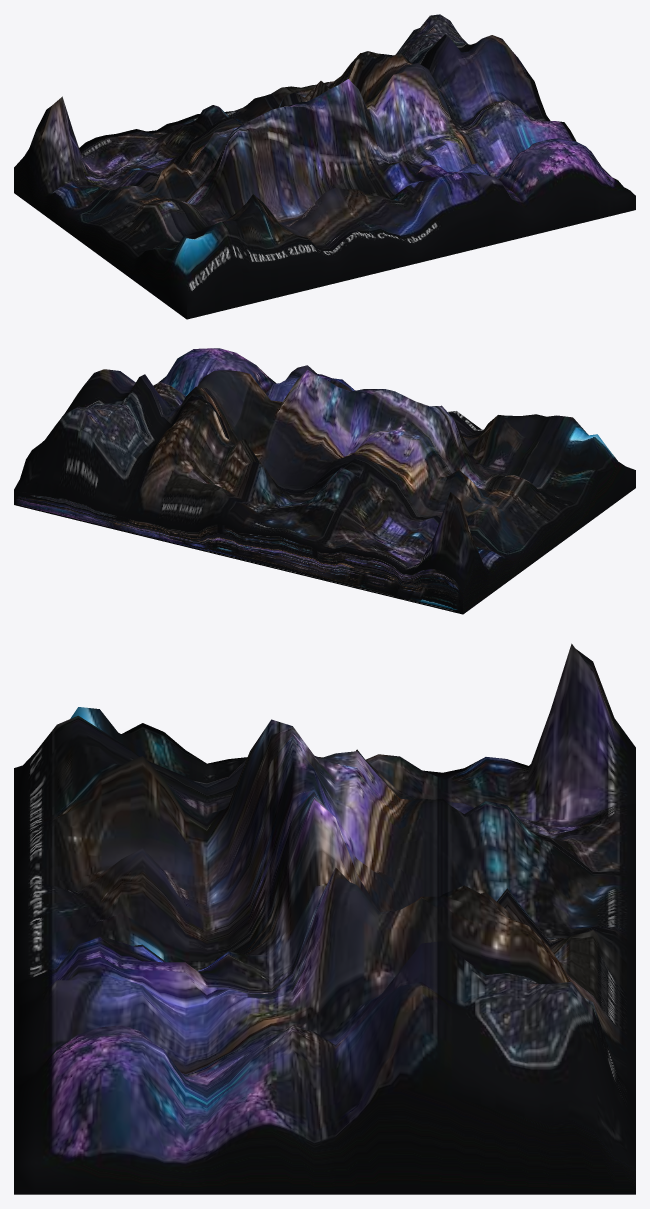
The model's file is BUSINESS_17_Jewelry_Store.glb.
The picture shows the model from 3 angles, top to bottom: view 1: azimuth 30°, elevation 25°; view 2: azimuth 150°, elevation 25°; view 3: azimuth 270°, elevation 25°; orthographic projection. The views are drawn at different scales.
Parts seen in each view (by area): view 1: BUSINESS_17_Jewelry_Store; view 2: BUSINESS_17_Jewelry_Store; view 3: BUSINESS_17_Jewelry_Store.
Boxes of the visible parts, bbox=[...] form: BUSINESS_17_Jewelry_Store: bbox=[14, 14, 635, 319]; BUSINESS_17_Jewelry_Store: bbox=[14, 348, 635, 614]; BUSINESS_17_Jewelry_Store: bbox=[14, 643, 635, 1194].
Size of the model in its own units: 2 by 0.51 by 1.33.
Materials: 1 (1 with a texture image).
